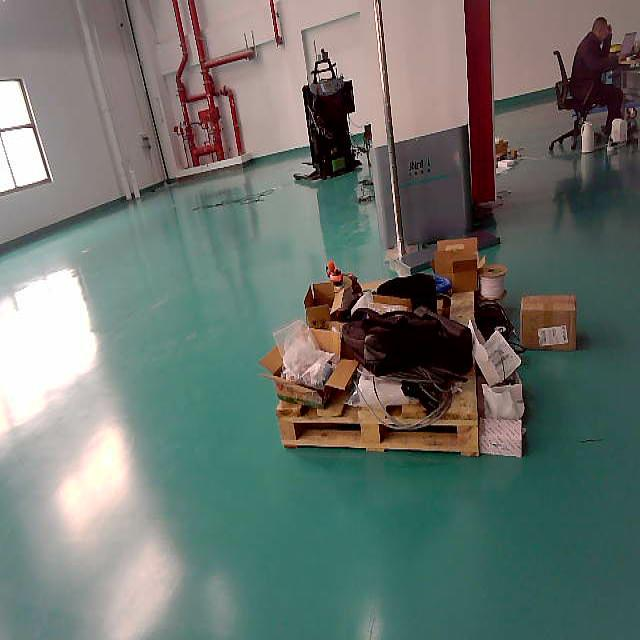euro: (278, 411, 479, 453)
